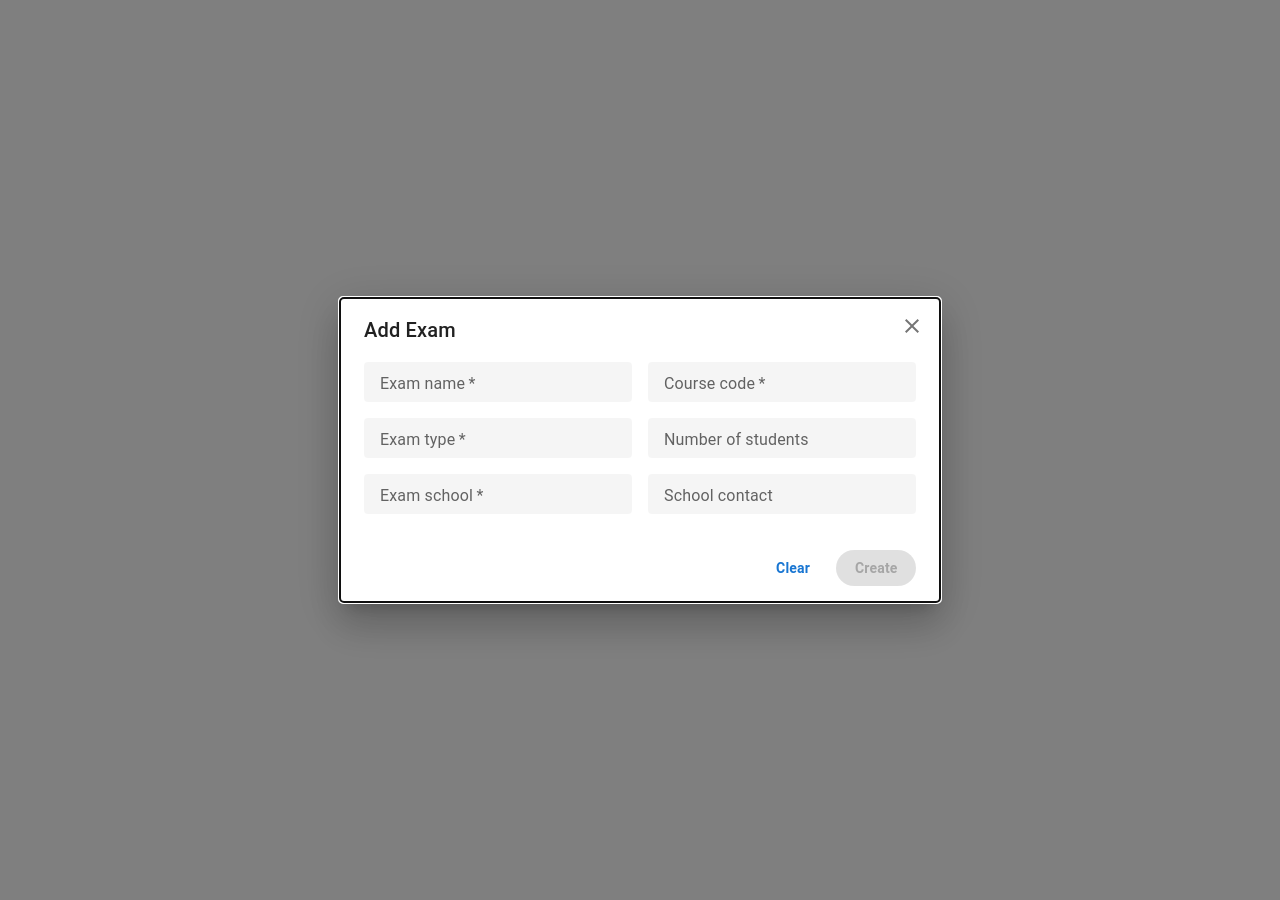
AddExamDialog › clears fields when Clear is clicked
Type "Stats 101" into the field labelled "Exam name *" at (498, 382), box [380,371,616,394]
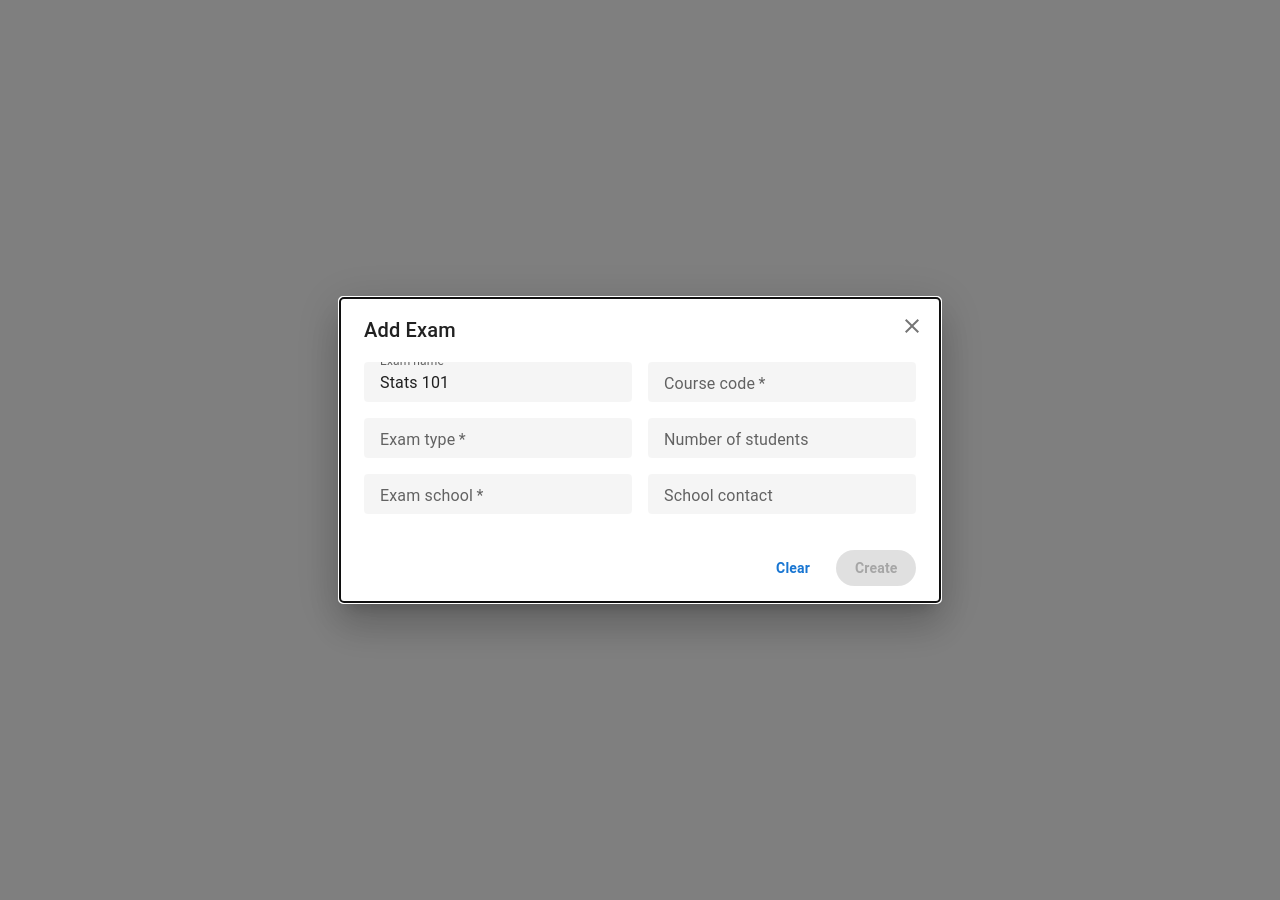
Type "STAT101" into the field labelled "Course code *" at (782, 382), box [664,371,900,394]
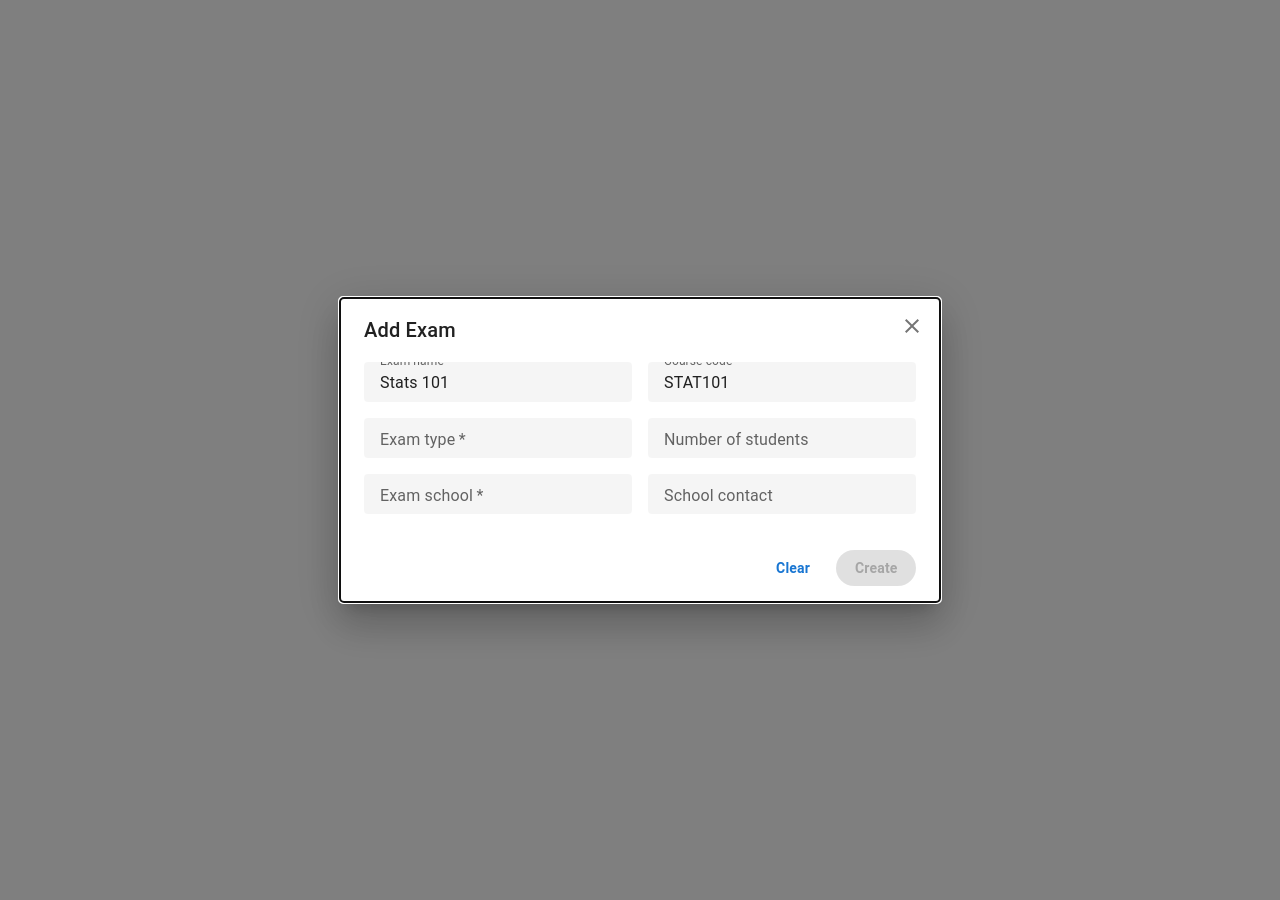
Click the button "Clear" at (793, 568), box [758,550,828,586]
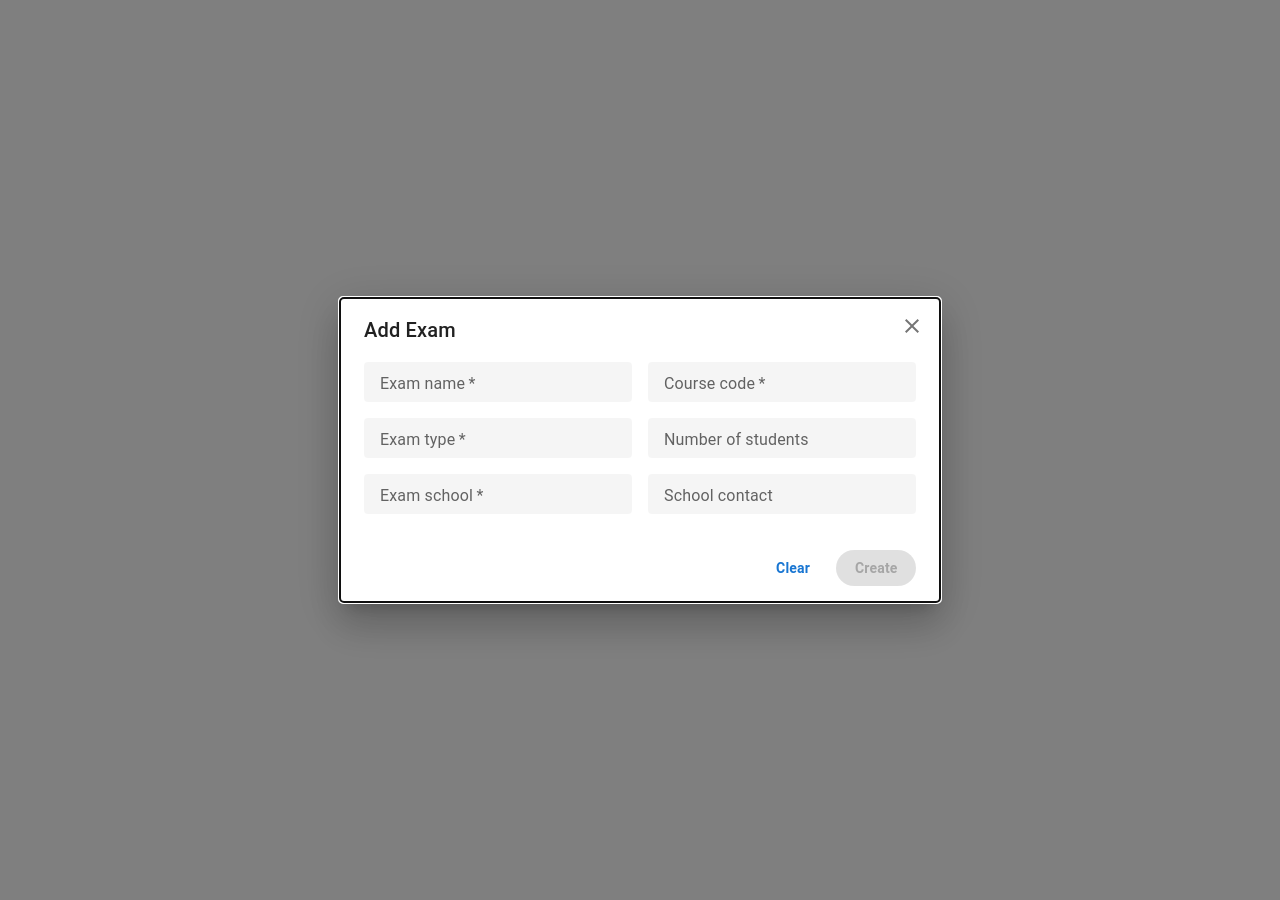
Expected: the field labelled "Exam name *" is empty, [380,371,616,394]
Expected: the field labelled "Course code *" is empty, [664,371,900,394]
